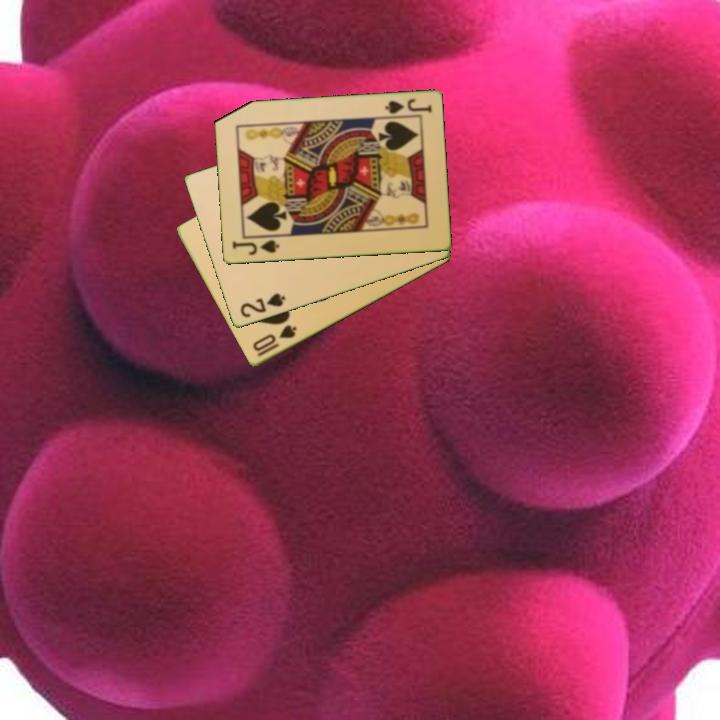10s: (249, 322, 300, 359)
2s: (236, 290, 288, 321)
Js: (228, 236, 282, 258), (381, 95, 434, 117)
